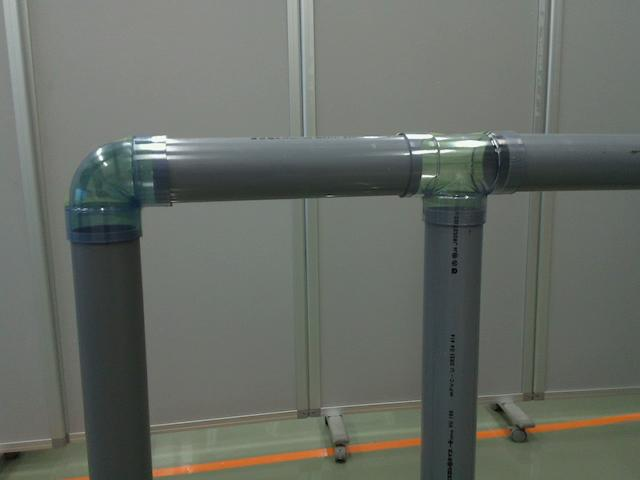bent: (67, 136, 172, 244)
junction: (392, 131, 529, 218)
